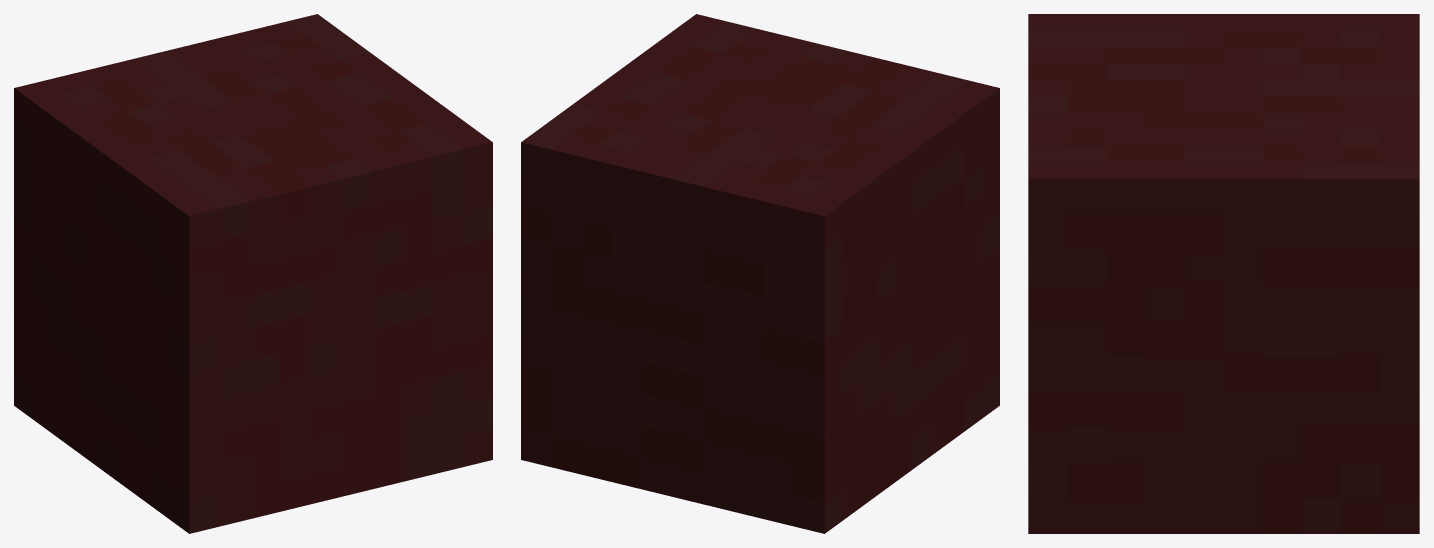
The model's file is RedStone.obj.
3 renders of one model, left to right at view 1: azimuth 30°, elevation 25°; view 2: azimuth 150°, elevation 25°; view 3: azimuth 270°, elevation 25°, orthographic. The views are drawn at different scales.
Bounding box in the file's own units: 1 × 1 × 1.
